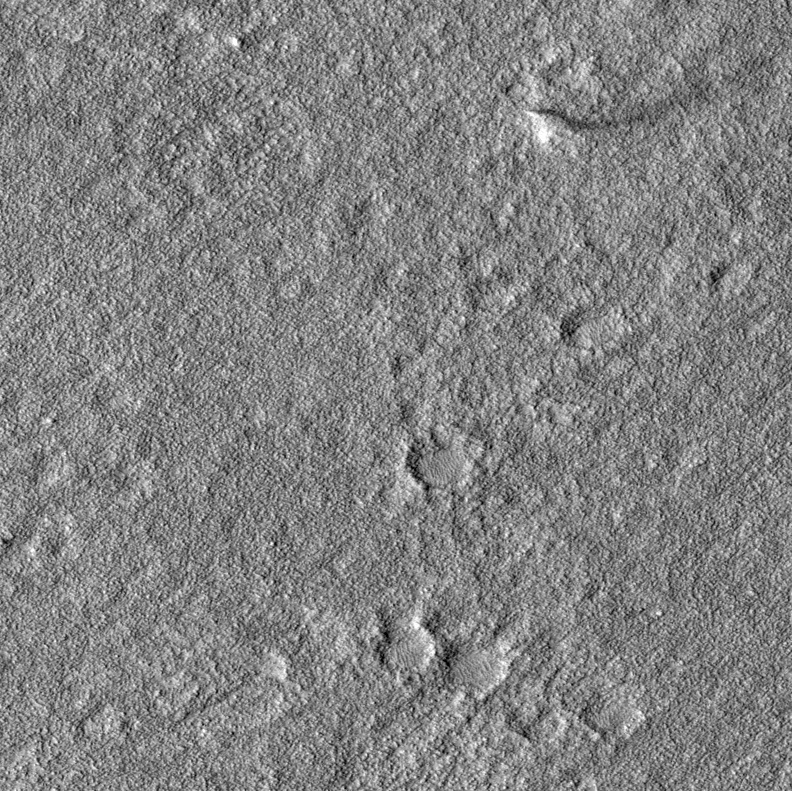dust_devil: (518, 78, 708, 148)
